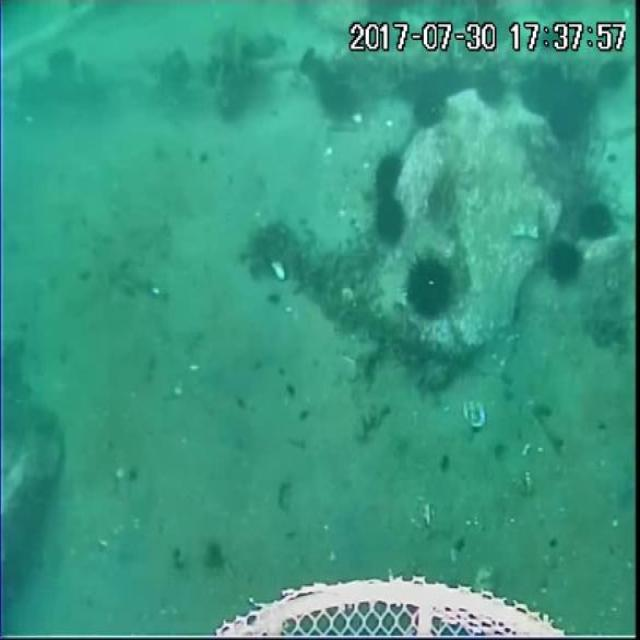echinus: (404, 257, 458, 320), (517, 66, 569, 118), (543, 233, 585, 291), (316, 75, 362, 126), (545, 93, 585, 144), (372, 201, 409, 252), (576, 196, 614, 245), (412, 83, 449, 128), (474, 66, 509, 110), (373, 150, 404, 198), (599, 53, 630, 96)
